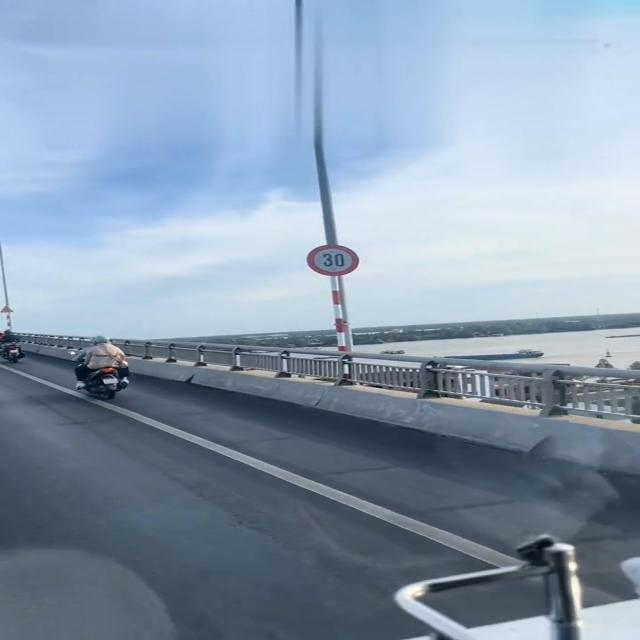127-toc-do-toi-da-30: (304, 244, 360, 276)
